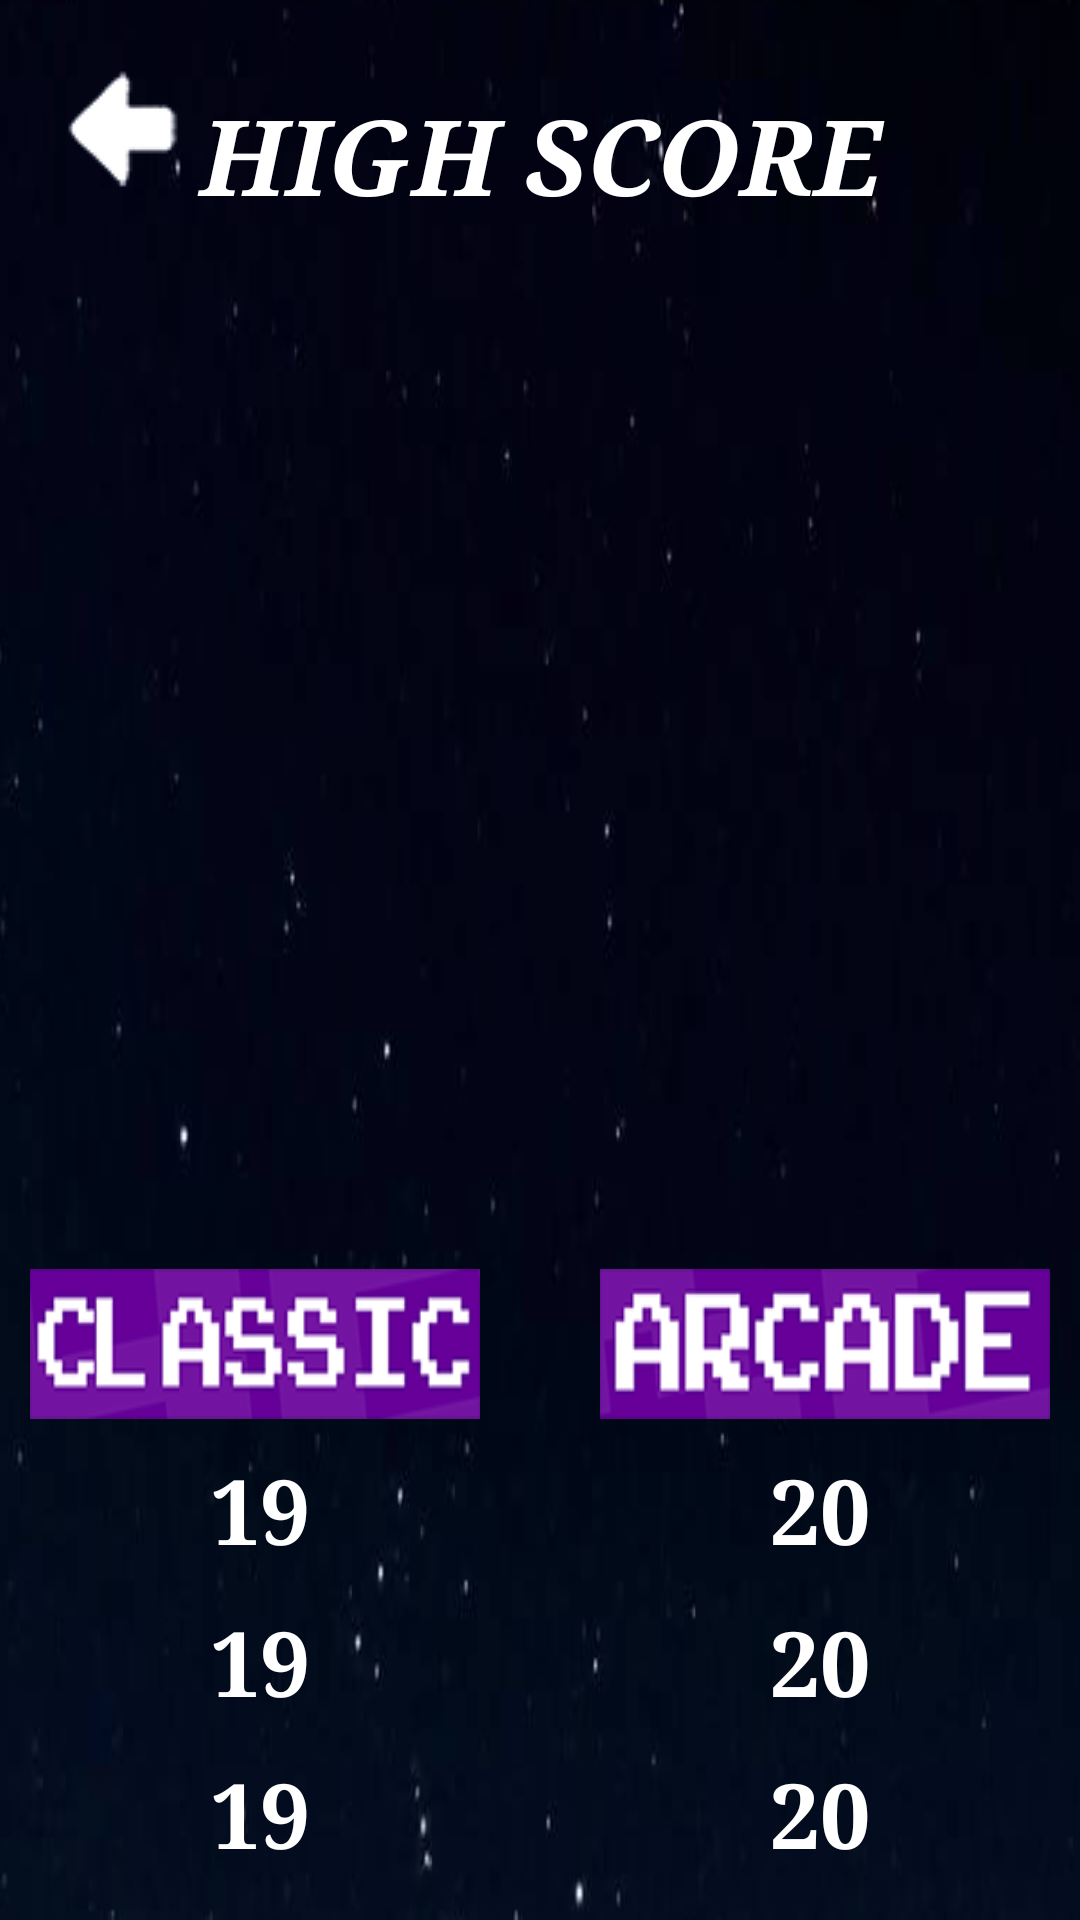

Point at icon controls on the screen. Image size 1080px x 1920px, points as (x=x, y=y).
back: (x=124, y=129)
